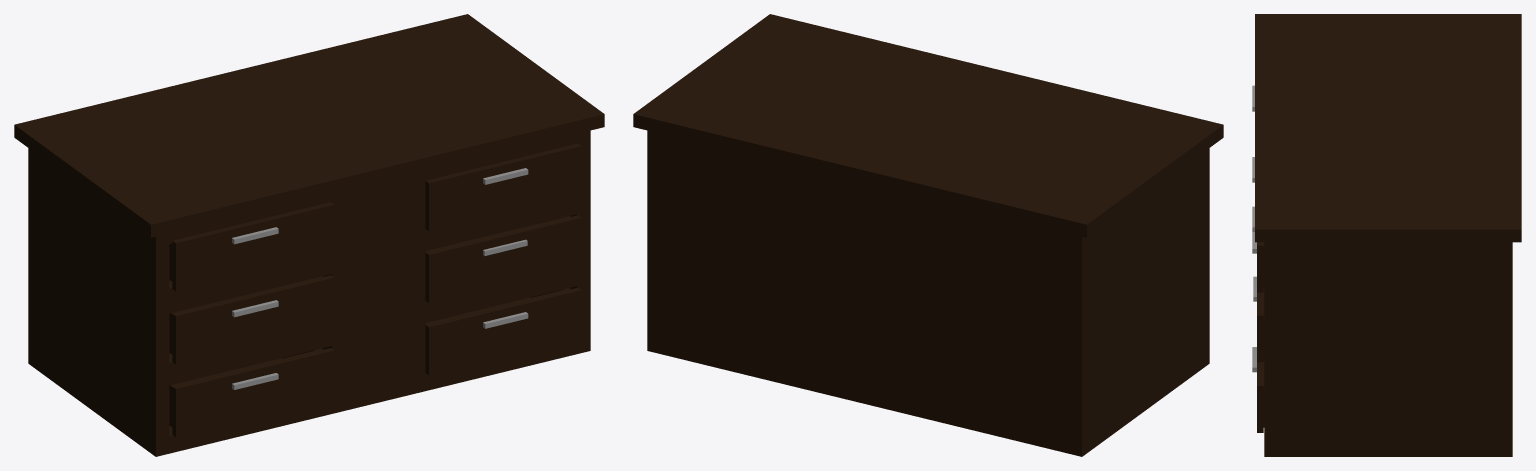
Rendered from Cabinet and Drawers.FBX.
3 views of the same model, side by side, from view 1: azimuth 30°, elevation 25°; view 2: azimuth 150°, elevation 25°; view 3: azimuth 270°, elevation 25° (orthographic). The views are drawn at different scales.
Visible parts, largest first — view 1: Kitchen Counter, Cabinet Drawer 4, Cabinet Drawer 5, Cabinet Drawer 6, Cabinet Drawer 3, Cabinet Drawer 2, Cabinet Drawer 1; view 2: Kitchen Counter; view 3: Kitchen Counter, Cabinet Drawer 3, Cabinet Drawer 2, Cabinet Drawer 1.
Boxes of the visible parts, bbox=[...] form: Kitchen Counter: bbox=[14, 14, 604, 456]; Cabinet Drawer 4: bbox=[169, 348, 334, 436]; Cabinet Drawer 5: bbox=[169, 275, 334, 364]; Cabinet Drawer 6: bbox=[169, 202, 334, 291]; Cabinet Drawer 3: bbox=[425, 287, 581, 375]; Cabinet Drawer 2: bbox=[425, 215, 581, 302]; Cabinet Drawer 1: bbox=[425, 143, 581, 231]; Kitchen Counter: bbox=[633, 14, 1223, 456]; Kitchen Counter: bbox=[1255, 14, 1521, 456]; Cabinet Drawer 3: bbox=[1252, 347, 1264, 432]; Cabinet Drawer 2: bbox=[1253, 276, 1264, 362]; Cabinet Drawer 1: bbox=[1252, 206, 1264, 292].
Bounding box in the file's own units: 420 × 210 × 222.
